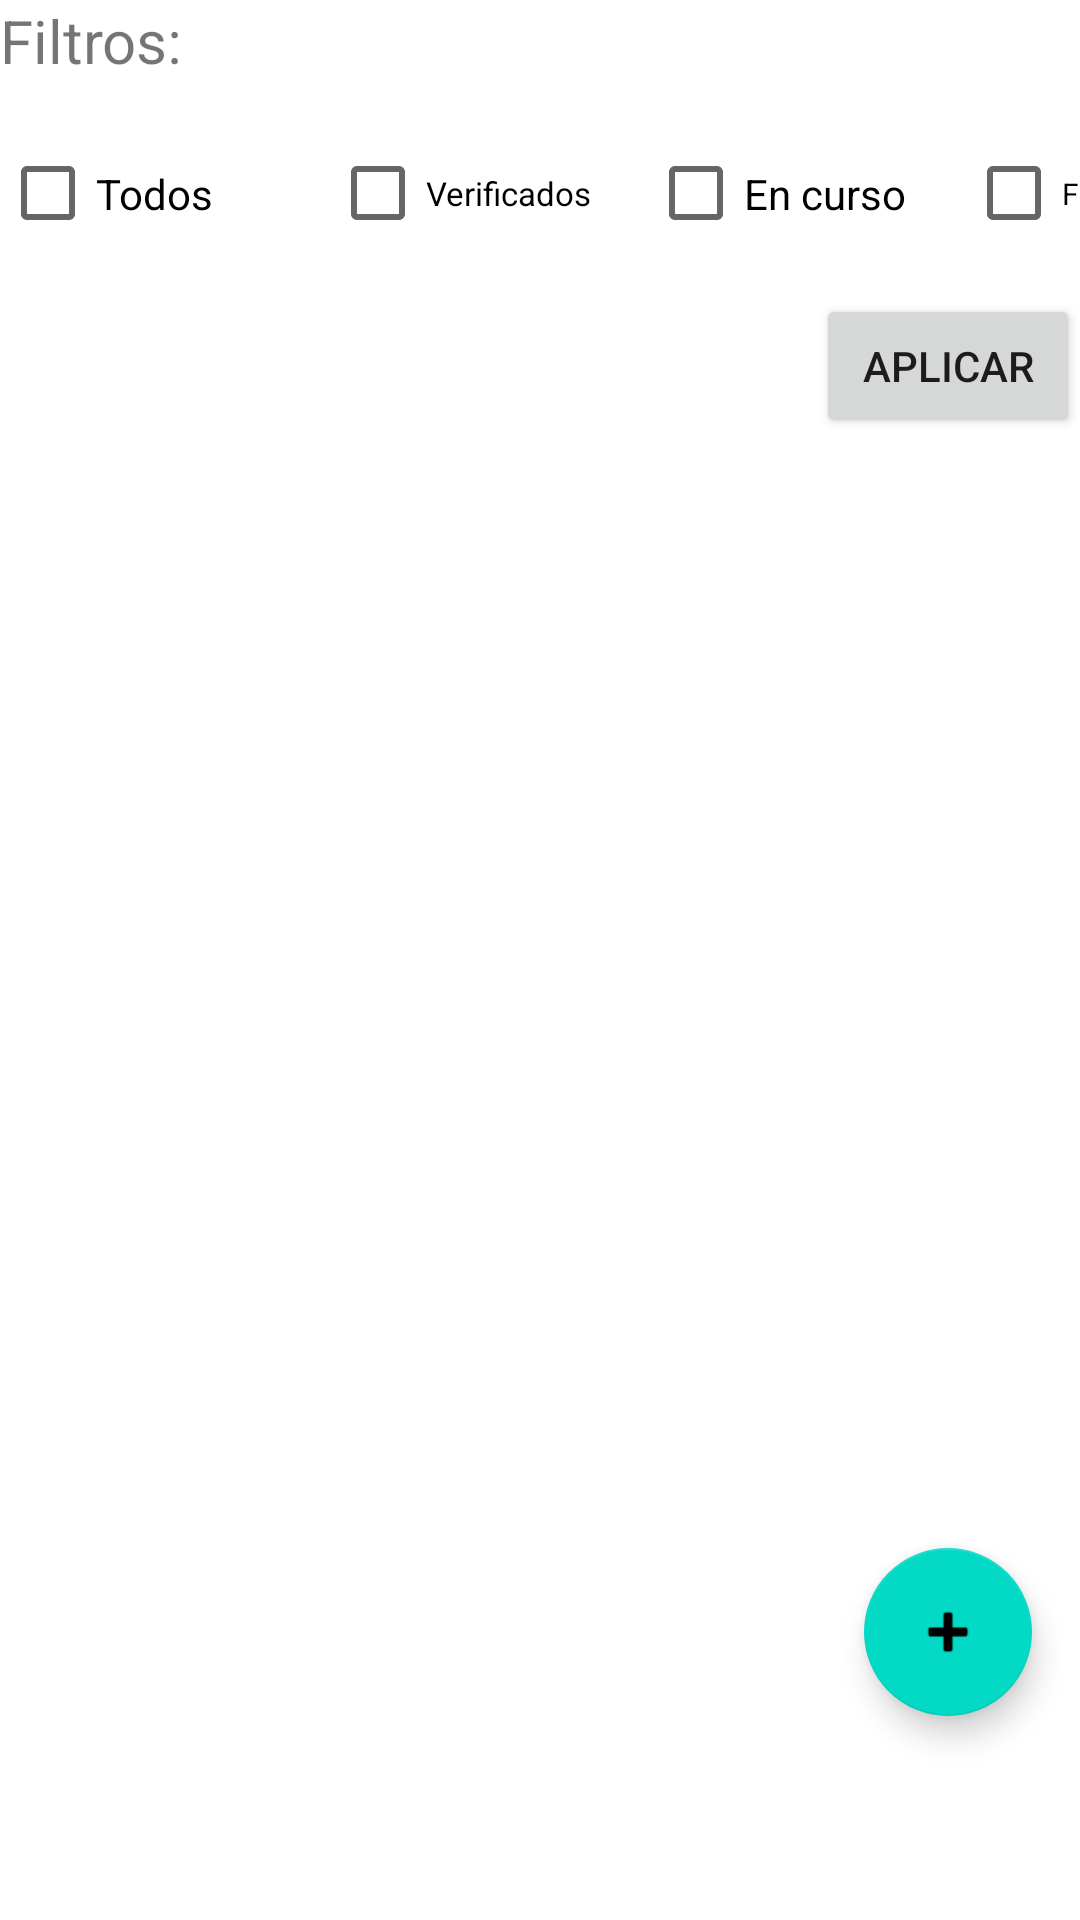

Screen size 1080x1920. Icon name, then its center in pixels as (x,y):
Agregar evento: (948,1632)
